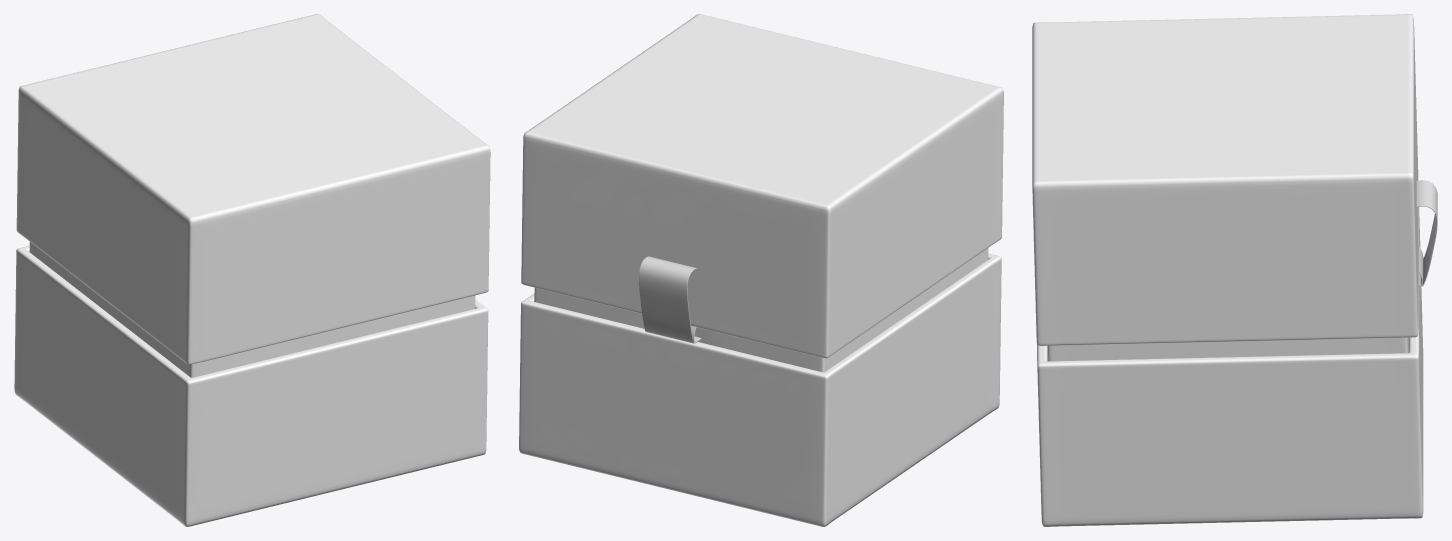
Rendered from ganbox.glb.
3 views of the same model, side by side, from view 1: azimuth 30°, elevation 25°; view 2: azimuth 150°, elevation 25°; view 3: azimuth 270°, elevation 25° (orthographic). The views are drawn at different scales.
Visible parts, largest first — view 1: model_1; view 2: model_1, model_0; view 3: model_1, model_0.
Part boxes in pixels (x1,y1,x2,y2): model_1: (14, 14, 490, 526); model_1: (519, 14, 1003, 526); model_0: (639, 256, 701, 343); model_1: (1032, 14, 1423, 526); model_0: (1416, 180, 1437, 286).
Bounding box in the file's own units: 10.08 × 10.23 × 10.64.
Materials: 1 (1 with a texture image).
